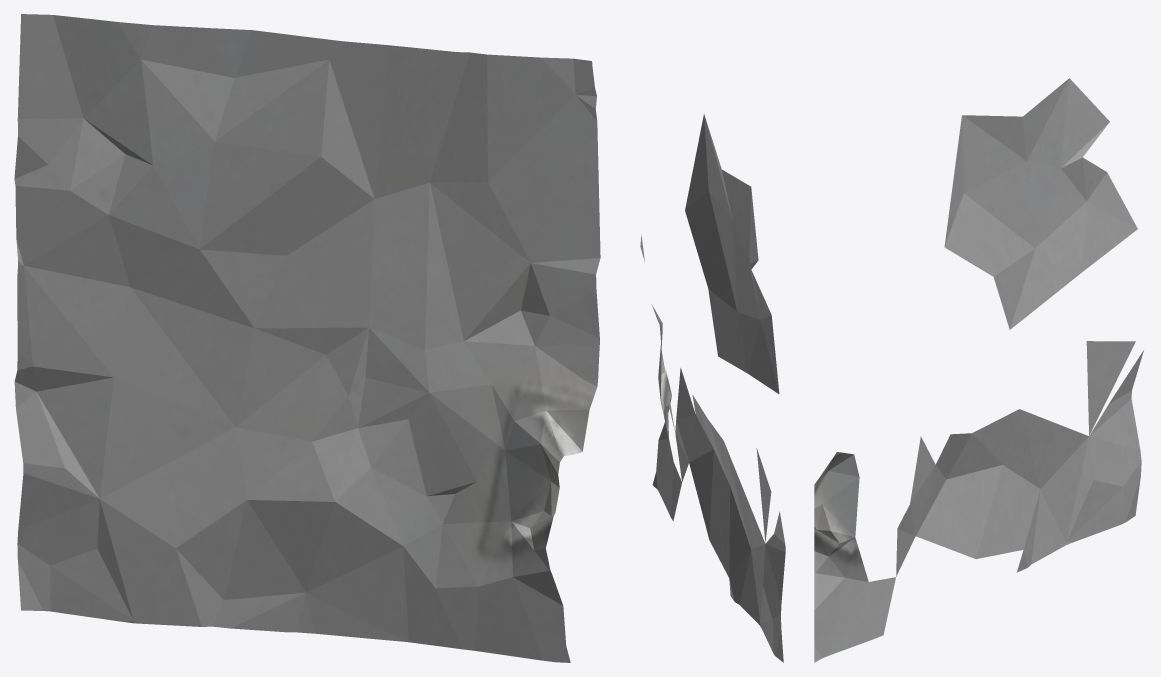
3 renders of one model, left to right at view 1: azimuth 30°, elevation 25°; view 2: azimuth 150°, elevation 25°; view 3: azimuth 270°, elevation 25°, orthographic. The views are drawn at different scales.
Size of the model in its own units: 0.5704 by 0.8374 by 0.5029.
Materials: 2 (2 with a texture image).
